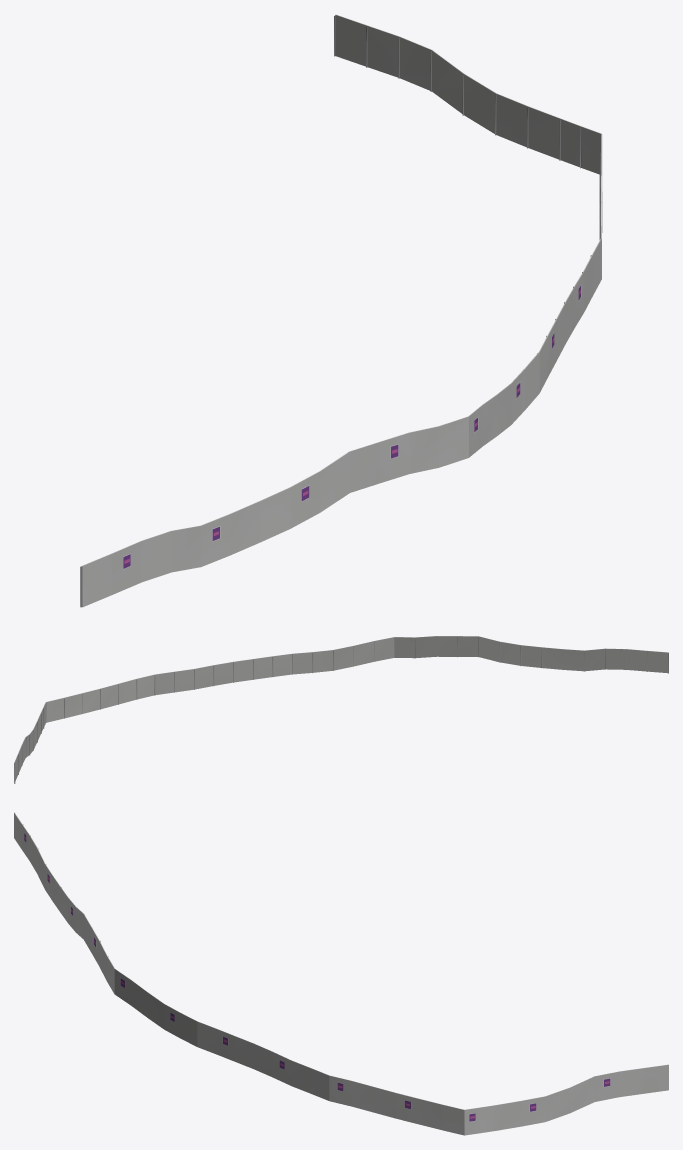
Rendered from drift-hoarding.glb.
The picture shows the model from 3 angles, top to bottom: view 1: azimuth 30°, elevation 25°; view 2: azimuth 150°, elevation 25°; view 3: azimuth 270°, elevation 25°; orthographic projection. The views are drawn at different scales.
Visible parts, largest first — view 1: drift-hoarding-paint, drift-hoarding-metal; view 2: drift-hoarding-paint, drift-hoarding-metal; view 3: drift-hoarding-paint, drift-hoarding-letters.
Boxes of the visible parts, x1=… form: drift-hoarding-paint: x1=81, y1=14, x2=602, y2=607; drift-hoarding-metal: x1=80, y1=16, x2=601, y2=607; drift-hoarding-paint: x1=14, y1=636, x2=668, y2=783; drift-hoarding-metal: x1=14, y1=636, x2=668, y2=783; drift-hoarding-paint: x1=14, y1=812, x2=668, y2=1135; drift-hoarding-letters: x1=24, y1=833, x2=610, y2=1121.
Size of the model in its own units: 56.46 by 5.52 by 58.43.
